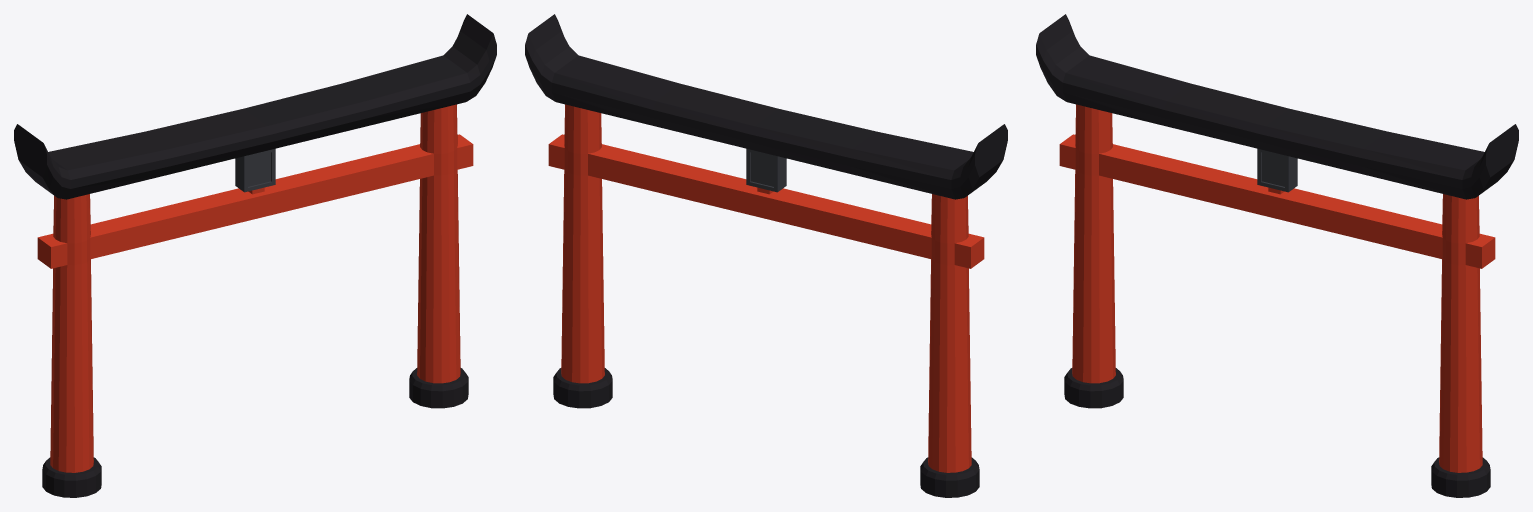
Rendered from torii-gate.glb.
3 views of the same model, side by side, from view 1: azimuth 30°, elevation 25°; view 2: azimuth 150°, elevation 25°; view 3: azimuth 330°, elevation 25° (orthographic).
Parts seen in each view (by area): view 1: Red, Black, Plaque; view 2: Red, Black, Plaque; view 3: Red, Black, Plaque.
Part boxes in pixels (bbox=[...]): Red: bbox=[37, 104, 473, 472]; Black: bbox=[14, 14, 496, 497]; Plaque: bbox=[235, 148, 275, 192]; Red: bbox=[548, 104, 984, 472]; Black: bbox=[525, 14, 1007, 497]; Plaque: bbox=[746, 148, 786, 192]; Red: bbox=[1059, 104, 1495, 472]; Black: bbox=[1036, 14, 1518, 497]; Plaque: bbox=[1257, 148, 1297, 192].
Size of the model in its own units: 26 by 20 by 3.3.
